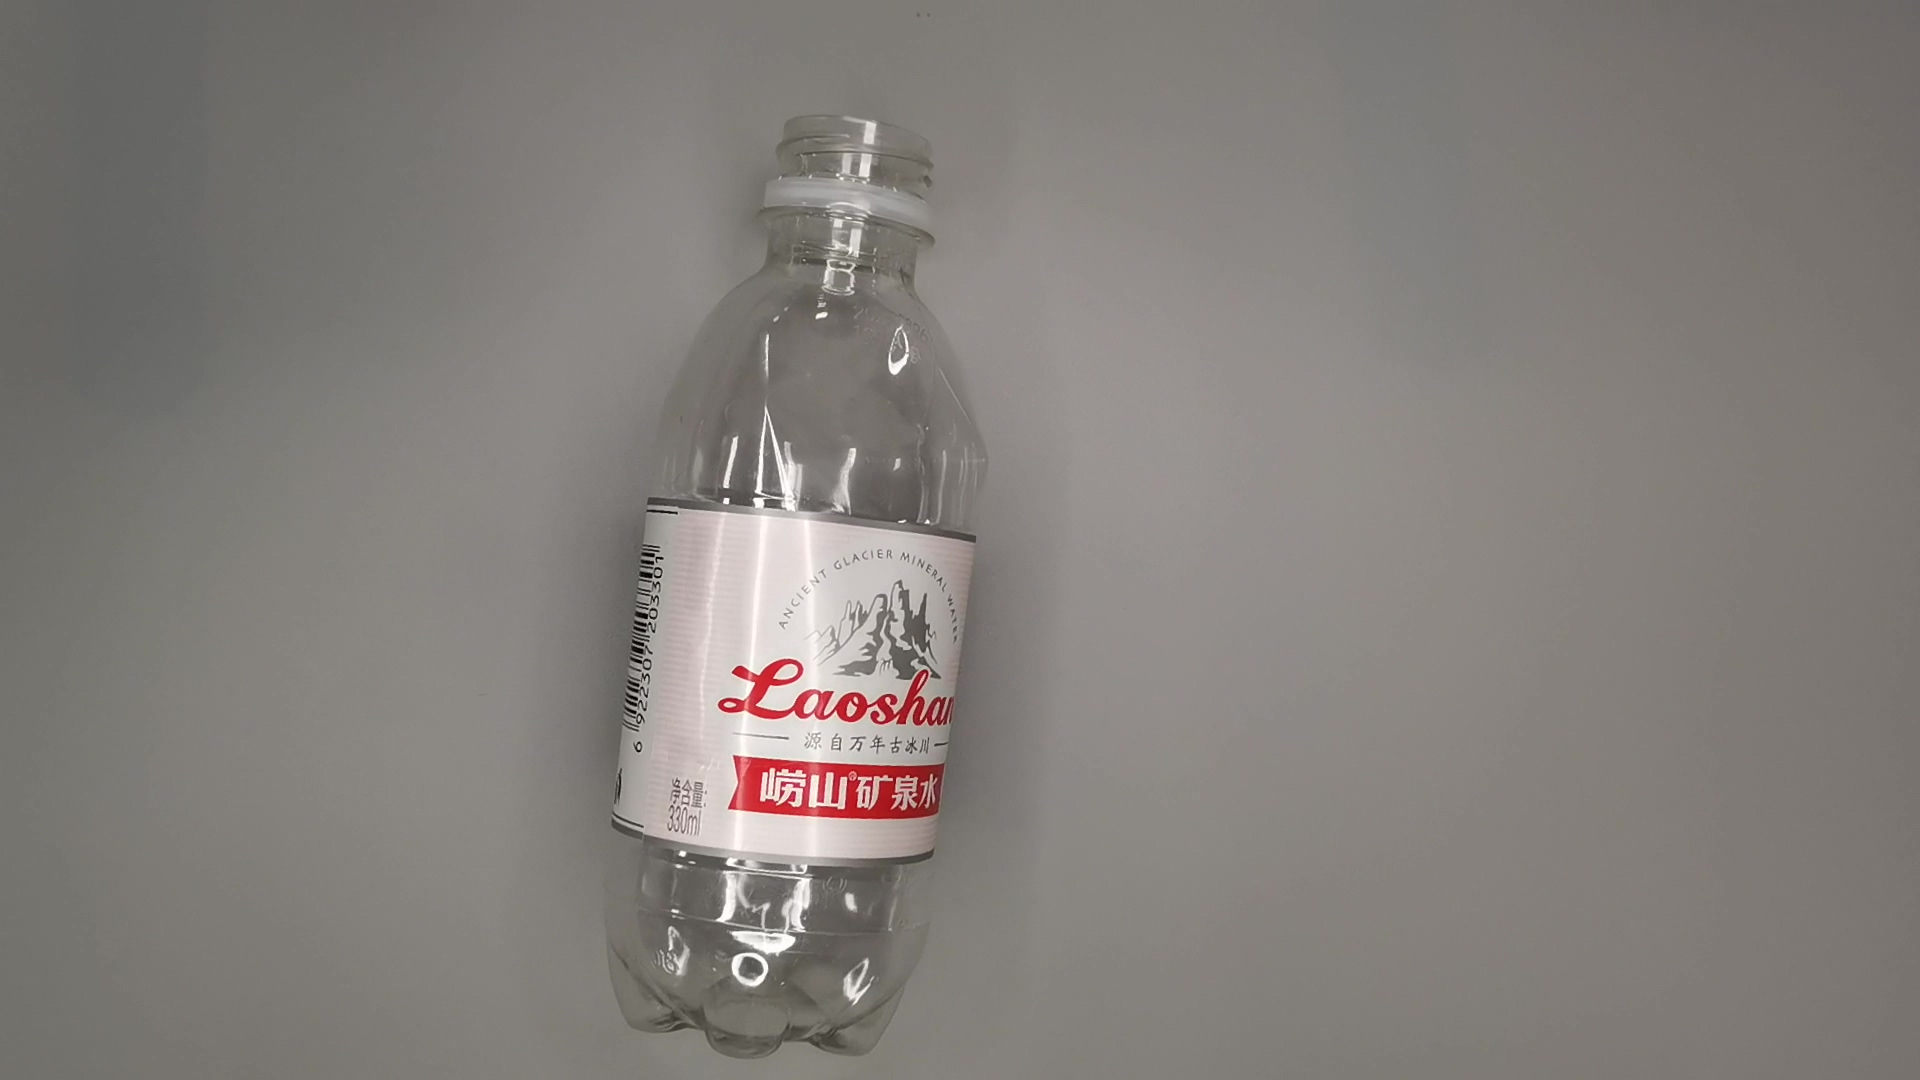bottle: (585, 111, 992, 1068)
